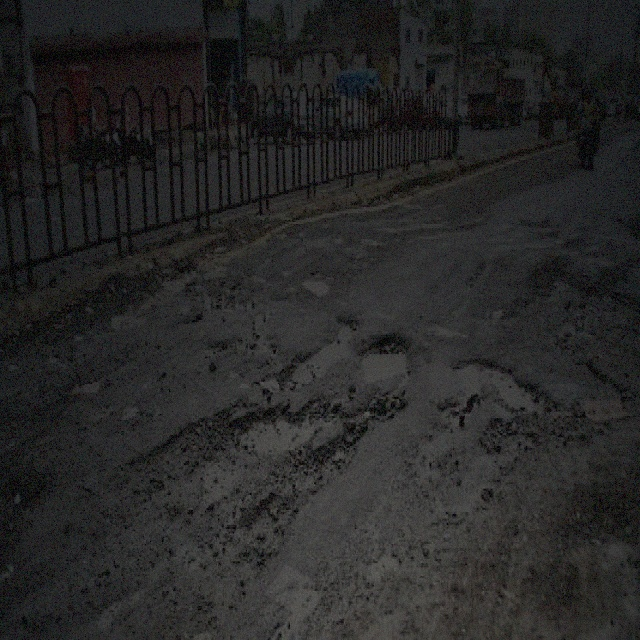pothole: (130, 399, 369, 497), (450, 356, 552, 418), (285, 312, 361, 386), (358, 331, 414, 386), (194, 286, 254, 313), (579, 390, 630, 420), (300, 271, 330, 299)
